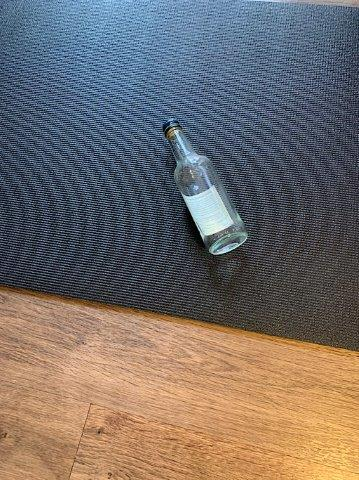botolkaca: (163, 120, 247, 255)
